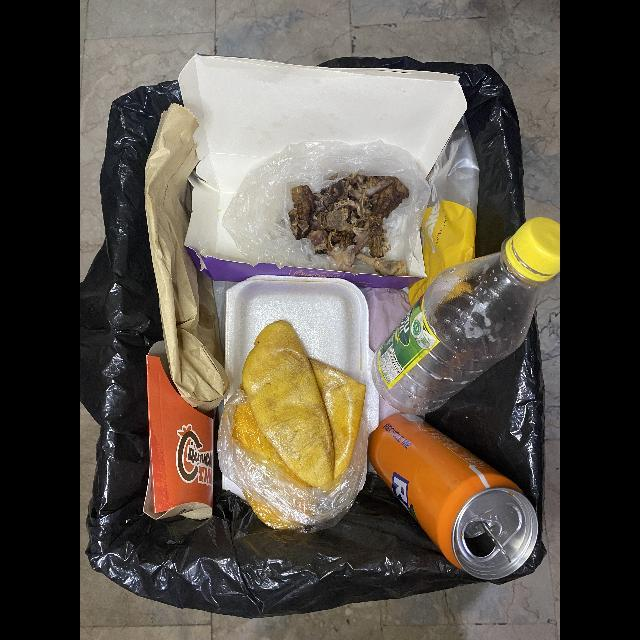aluminum: (368, 413, 539, 581)
cardboard: (177, 55, 468, 290), (143, 341, 216, 521)
food_wrapper: (408, 114, 480, 308)
left_over_food: (289, 173, 409, 276)
paper: (144, 104, 229, 417)
plastic_bag: (222, 140, 431, 277)
plastic_bottle: (372, 218, 560, 417)
